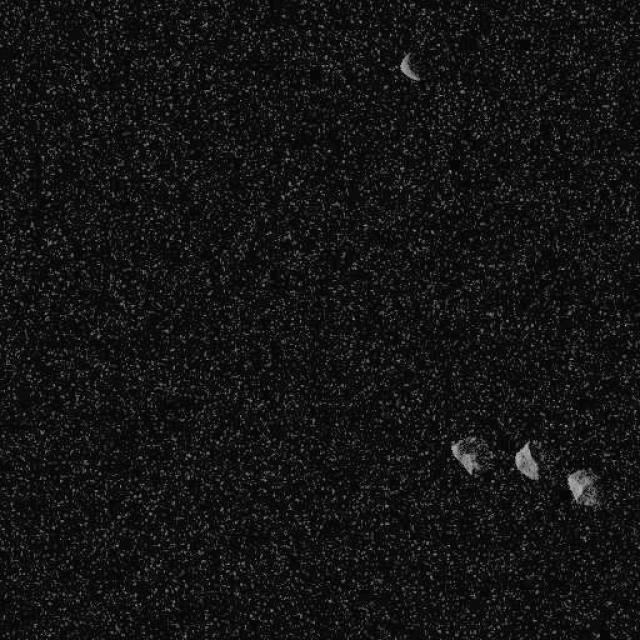D2: (448, 433, 492, 478), (565, 467, 600, 508), (512, 439, 538, 480), (398, 50, 422, 81)
